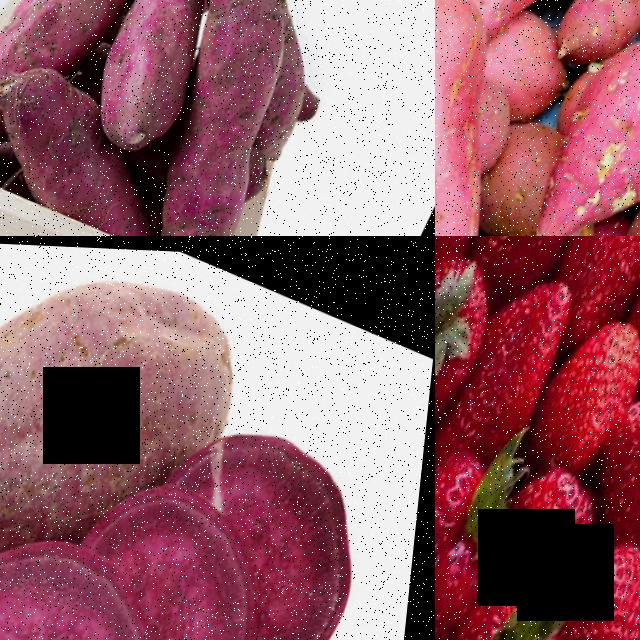strawberry: (441, 262, 592, 463), (531, 312, 640, 480), (435, 452, 531, 640), (435, 237, 516, 443), (435, 560, 590, 640), (588, 372, 640, 546), (557, 532, 640, 640), (553, 236, 640, 313)
sweet potato: (0, 239, 270, 489), (0, 501, 207, 640), (158, 0, 352, 140), (519, 13, 640, 236), (77, 0, 243, 156), (435, 0, 536, 229), (0, 289, 61, 640), (0, 49, 116, 198), (0, 0, 164, 81), (435, 151, 527, 236), (467, 0, 603, 39)
